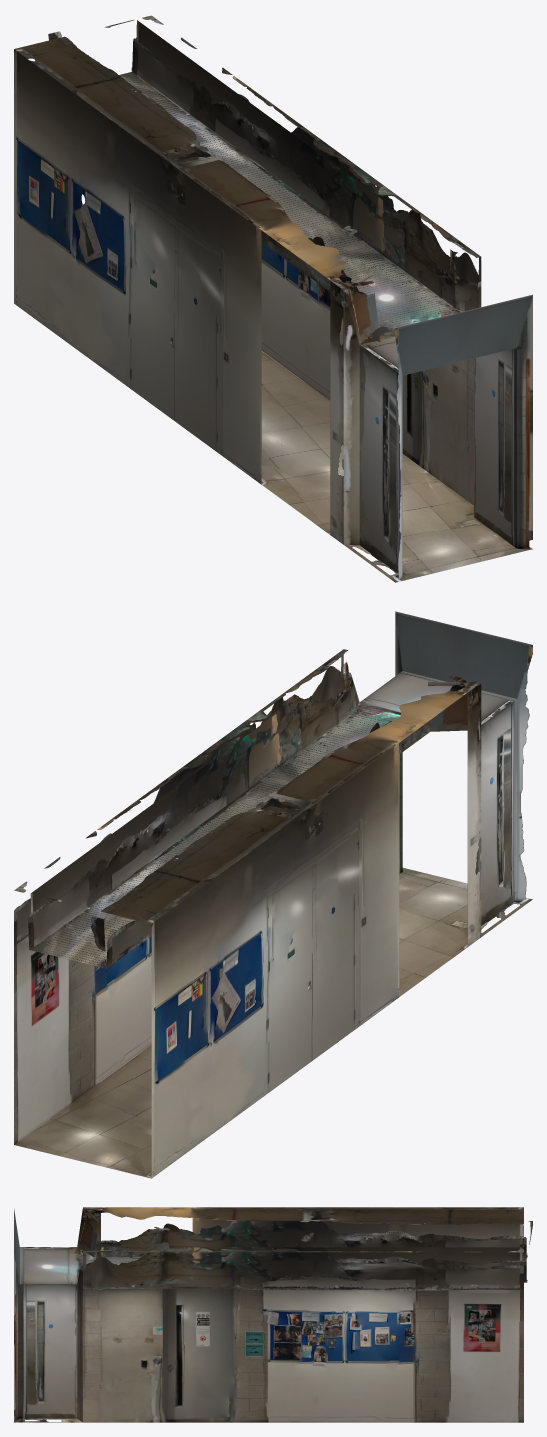
Rendered from G-corr-3-LP.fbx.
3 views of the same model, one above another, from view 1: azimuth 30°, elevation 25°; view 2: azimuth 150°, elevation 25°; view 3: azimuth 270°, elevation 25° (orthographic). The views are drawn at different scales.
Parts seen in each view (by area): view 1: G-corr-3-LP; view 2: G-corr-3-LP; view 3: G-corr-3-LP.
Boxes of the visible parts, x1,y1,x2,y2 form: G-corr-3-LP: (14,15,532,582); G-corr-3-LP: (14,611,532,1178); G-corr-3-LP: (14,1207,532,1422).
Bounding box in the file's own units: 170 × 302 × 832.
Materials: 1 (1 with a texture image).
